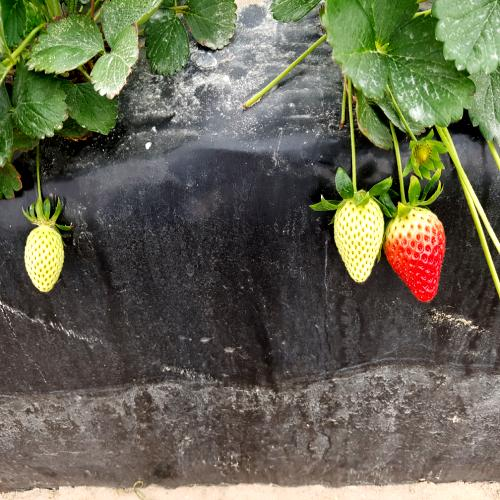unripe: (336, 182, 386, 298), (25, 219, 66, 297)
